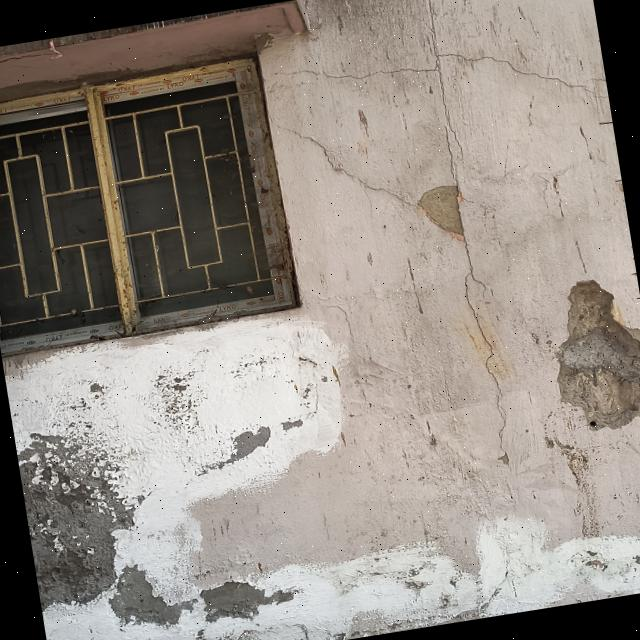crack: (296, 0, 519, 450), (273, 36, 613, 128)
peeling: (18, 434, 134, 609), (558, 280, 640, 428), (109, 555, 199, 629), (201, 582, 294, 622), (225, 427, 270, 463)
